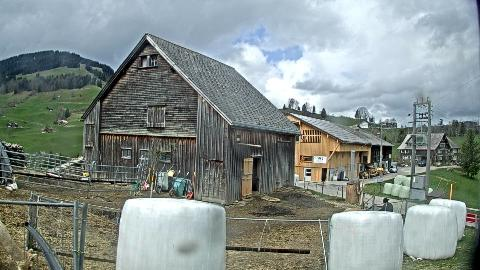car: (389, 166, 397, 172), (418, 162, 426, 166)
sheep: (0, 220, 36, 270), (379, 198, 393, 213), (343, 206, 364, 212)
